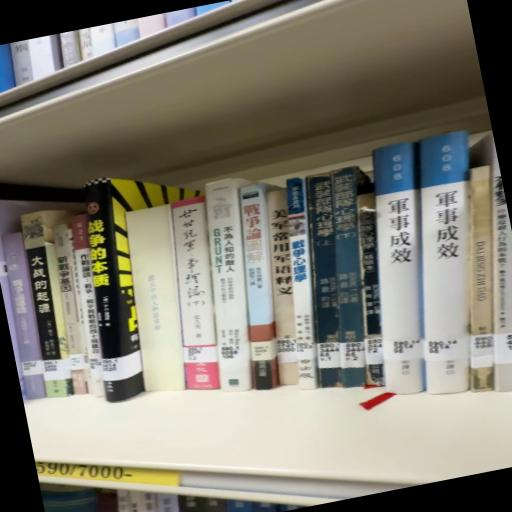backward: (112, 200, 204, 396)
book: (382, 134, 512, 404), (334, 146, 464, 409), (286, 162, 404, 393), (186, 180, 296, 400), (153, 191, 244, 395), (0, 230, 49, 377)
